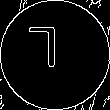L_S: (40, 30, 70, 80)
